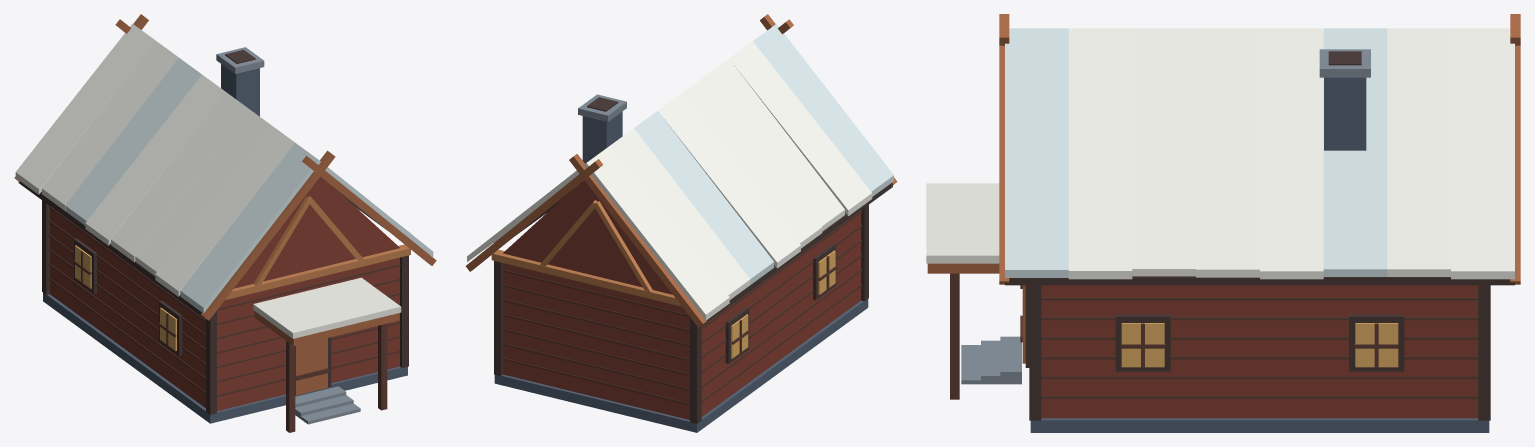
The model's file is Longhall.fbx.
The picture shows the model from 3 angles, left to right: view 1: azimuth 30°, elevation 25°; view 2: azimuth 150°, elevation 25°; view 3: azimuth 270°, elevation 25°; orthographic projection. The views are drawn at different scales.
Parts seen in each view (by area): view 1: Longhall; view 2: Longhall; view 3: Longhall.
Boxes of the visible parts, left/top/right/bottom form: Longhall: left=14, top=14, right=436, bottom=432; Longhall: left=465, top=14, right=897, bottom=432; Longhall: left=926, top=14, right=1520, bottom=432.
Bounding box in the file's own units: 5.85 × 6.03 × 9.39.
1 material, 1 textured.
